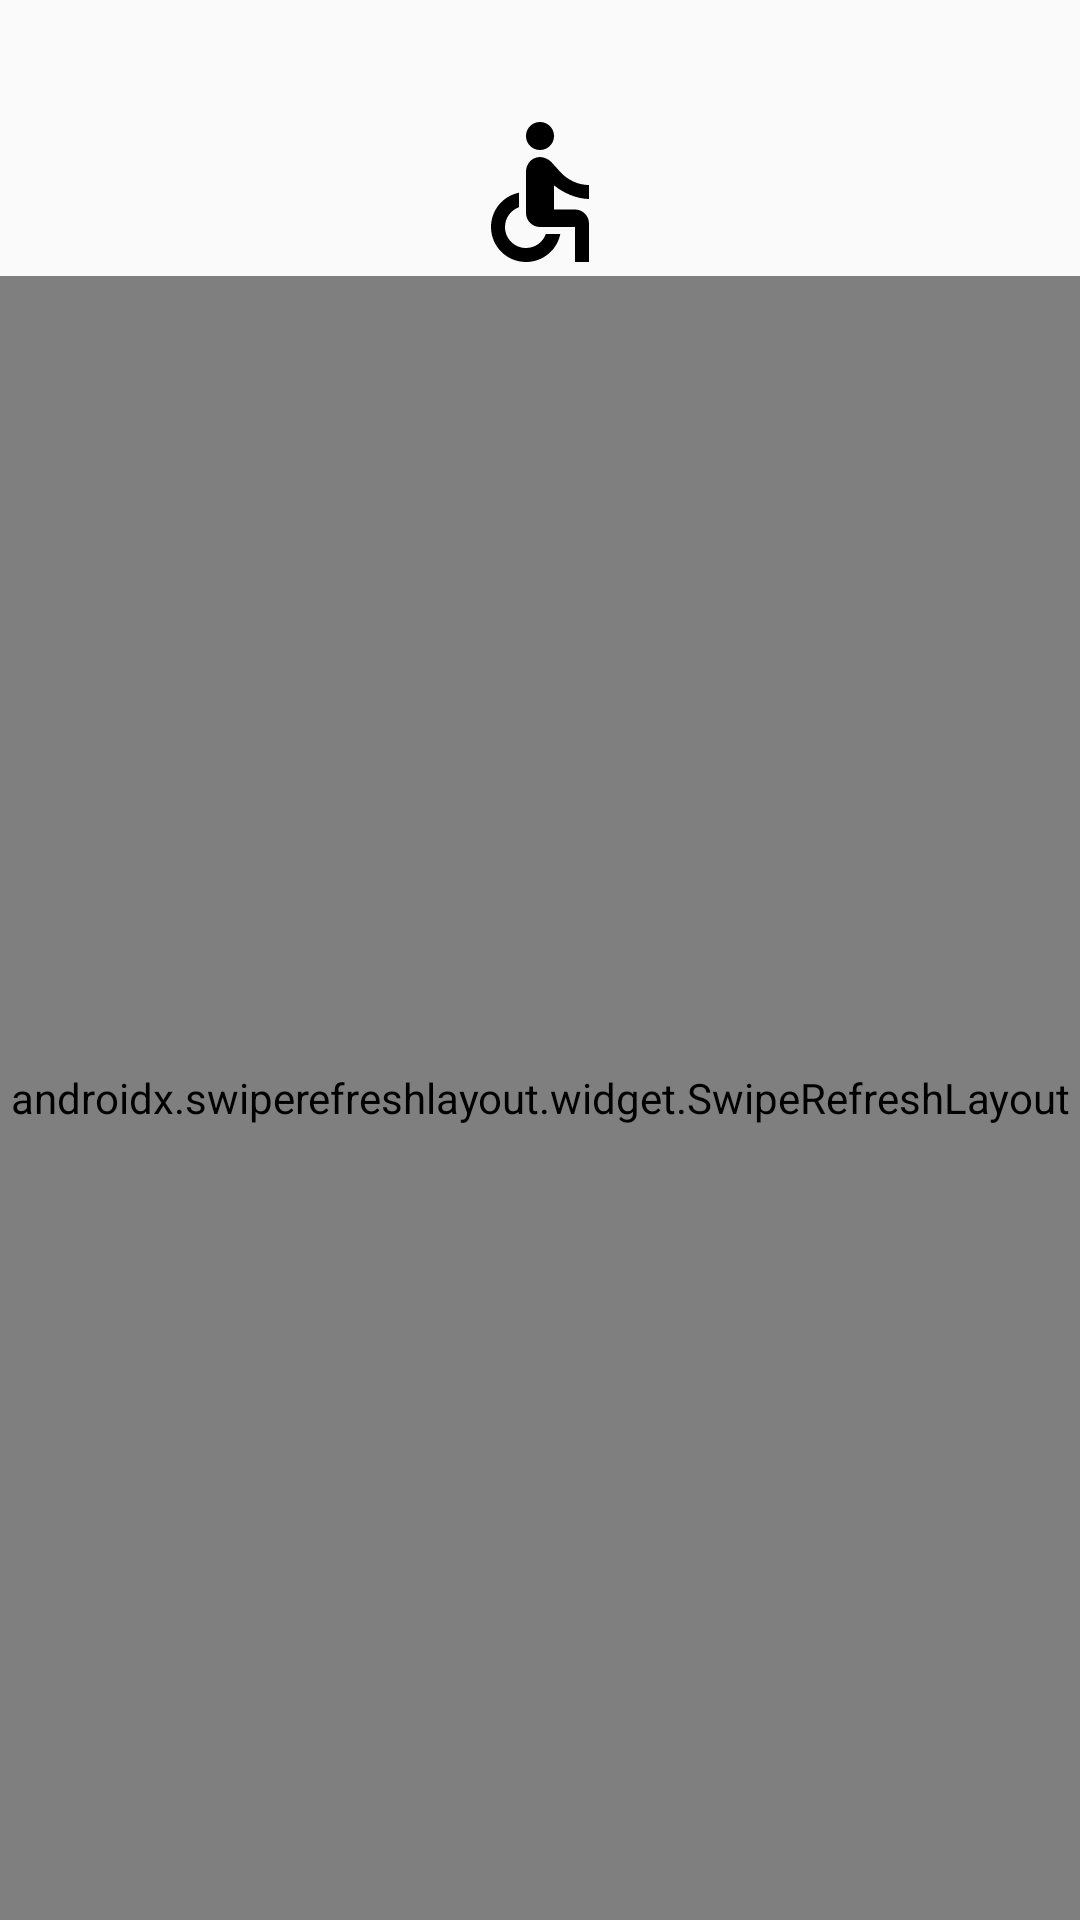

Screen size 1080×1920. Icon name, then its center in pixels as point (x, y):
accessible: point (540, 192)
